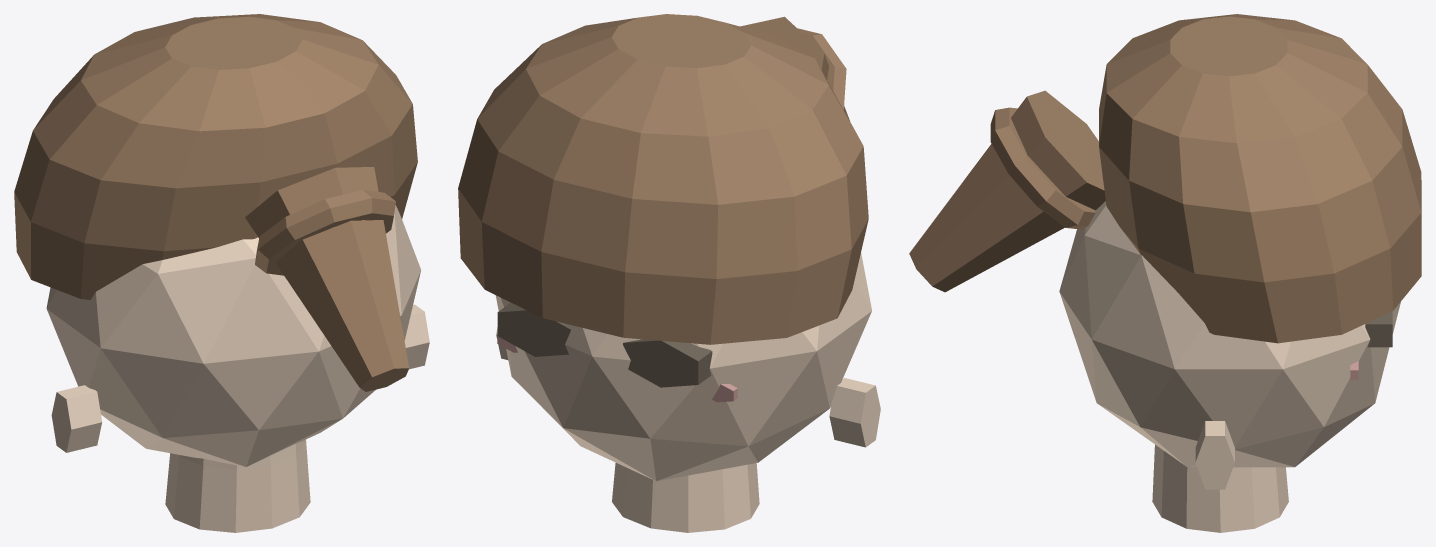
Rendered from 19-NPCs_cabeza_redonda.glb.
3 views of the same model, side by side, from view 1: azimuth 30°, elevation 25°; view 2: azimuth 150°, elevation 25°; view 3: azimuth 270°, elevation 25° (orthographic). The views are drawn at different scales.
Parts seen in each view (by area): view 1: SM_Cab_Cabello, SM_Cab_Cabeza, SM_Cab_Coleta, SM_Cab_Cuello; view 2: SM_Cab_Cabello, SM_Cab_Cabeza, SM_Cab_Cuello, SM_Cab_Ojos, SM_Cab_Coleta, SM_Cab_Boca; view 3: SM_Cab_Cabello, SM_Cab_Cabeza, SM_Cab_Coleta, SM_Cab_Cuello, SM_Cab_Ojos.
Boxes of the visible parts, <box> form: SM_Cab_Cabello: <box>14,14,417,299</box>; SM_Cab_Cabeza: <box>46,205,429,466</box>; SM_Cab_Coleta: <box>245,167,409,391</box>; SM_Cab_Cuello: <box>165,439,310,532</box>; SM_Cab_Cabello: <box>458,14,868,344</box>; SM_Cab_Cabeza: <box>495,253,880,481</box>; SM_Cab_Cuello: <box>612,463,759,532</box>; SM_Cab_Ojos: <box>497,303,712,387</box>; SM_Cab_Coleta: <box>740,16,849,120</box>; SM_Cab_Boca: <box>497,333,737,402</box>; SM_Cab_Cabello: <box>1099,14,1421,343</box>; SM_Cab_Cabeza: <box>1059,201,1400,489</box>; SM_Cab_Coleta: <box>909,90,1105,292</box>; SM_Cab_Cuello: <box>1152,444,1288,532</box>; SM_Cab_Ojos: <box>1365,311,1392,347</box>.
Bounding box in the file's own units: 0.312 × 0.368 × 0.3754.
